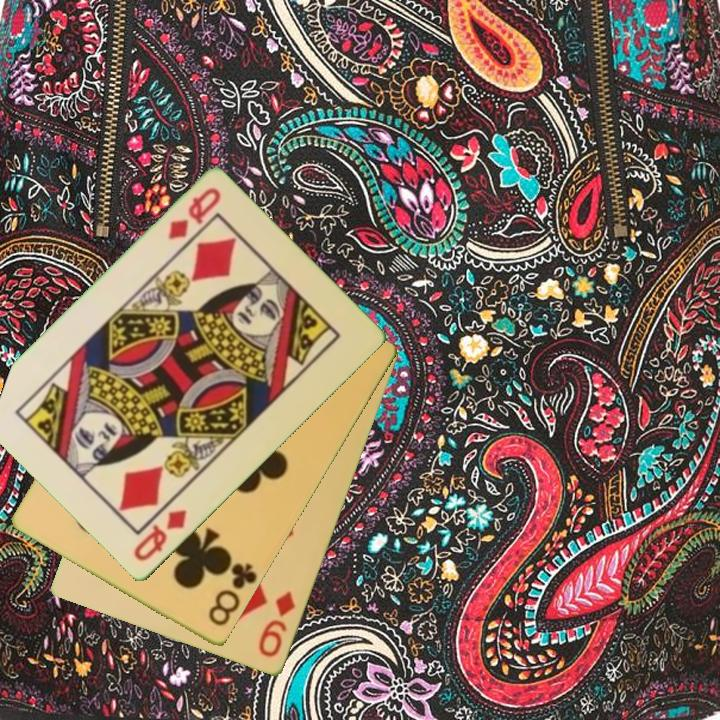8c: (205, 557, 260, 630)
9d: (255, 588, 299, 661)
Qd: (130, 506, 190, 565), (164, 184, 224, 243)
